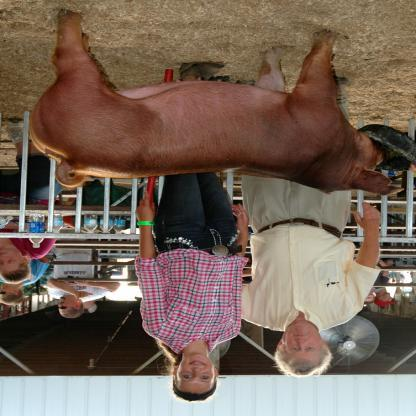boar: (29, 10, 404, 195)
